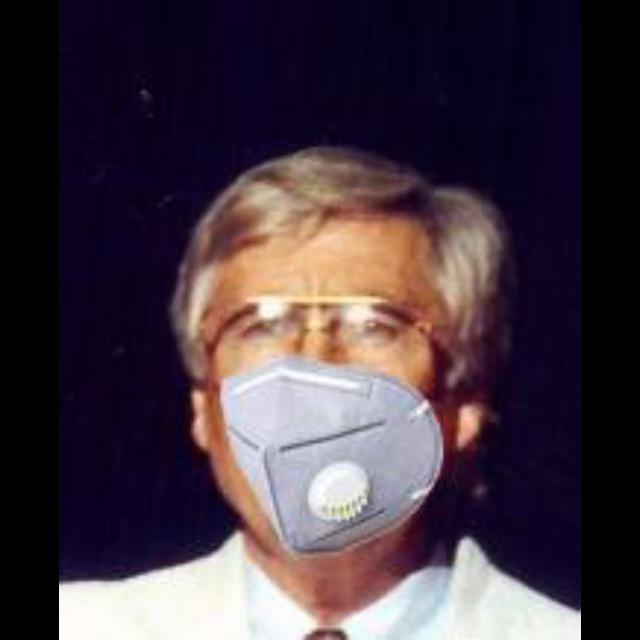suspicion: (178, 166, 522, 572)
